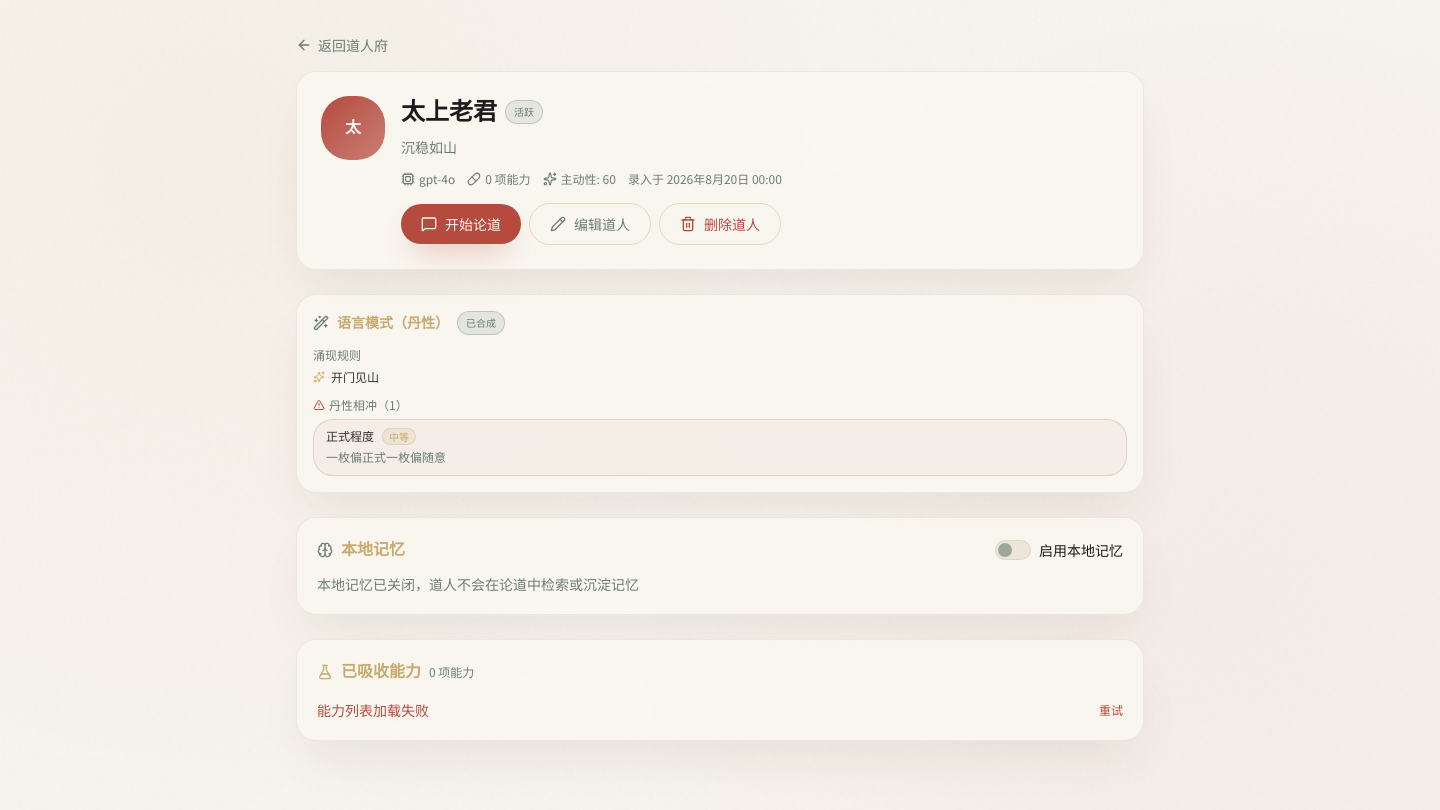
AgentDetailPage › 只读态 › 能力列表加载失败:区块内展示错误并可重试
Expected: the text "能力列表加载失败" is shown, 317,700 -> 429,720
Click the button "重试" at (1111, 710), box 1099,702 -> 1123,718
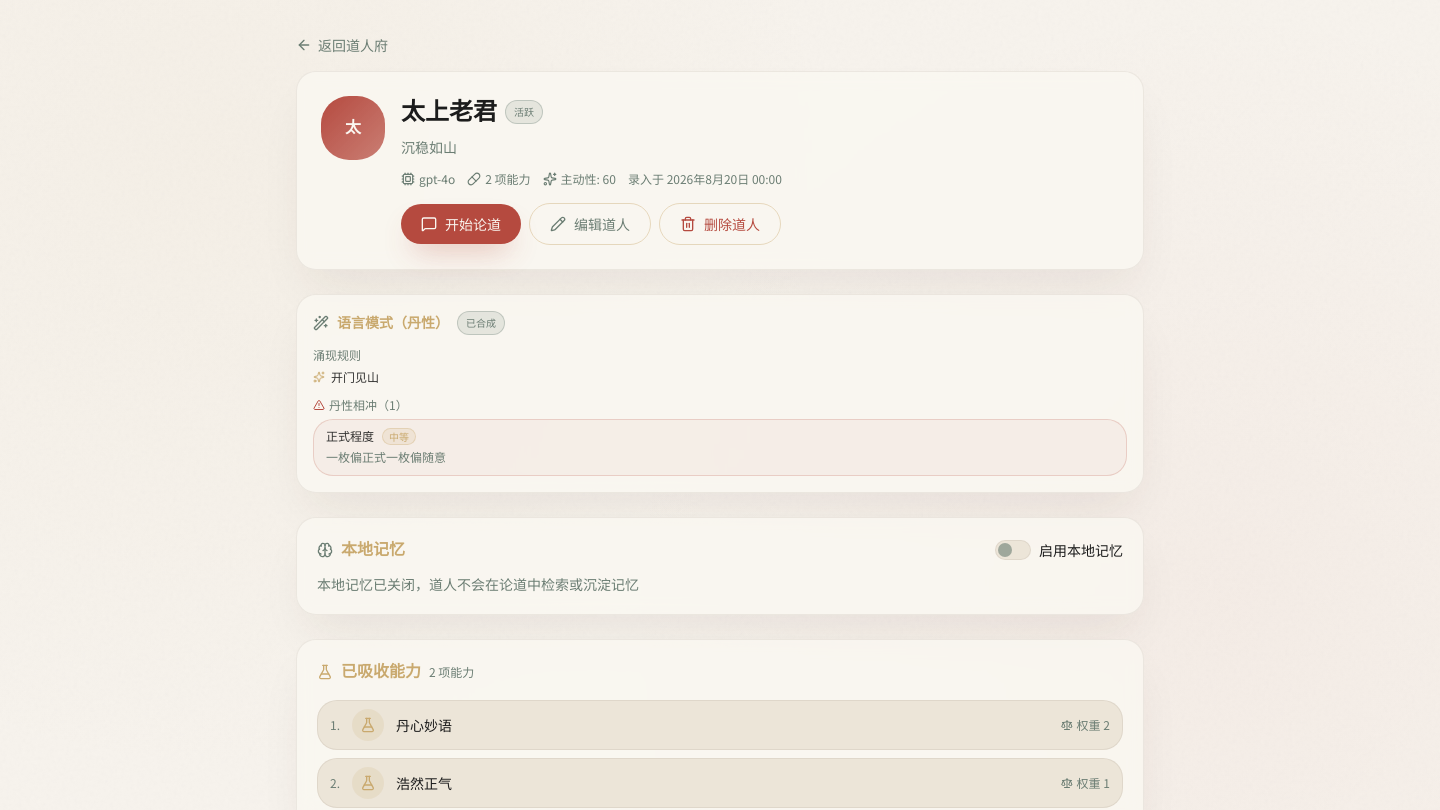
Result: the link "丹心妙语" is shown at 396,715 -> 452,735
